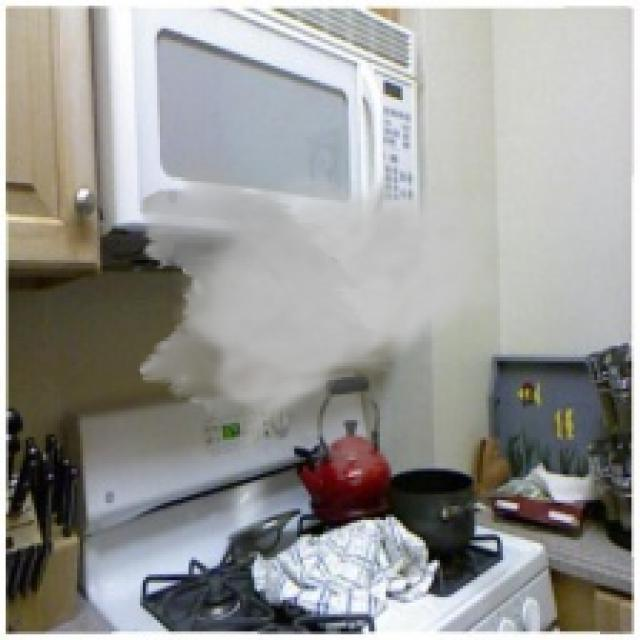Smoke: (128, 146, 514, 488)
